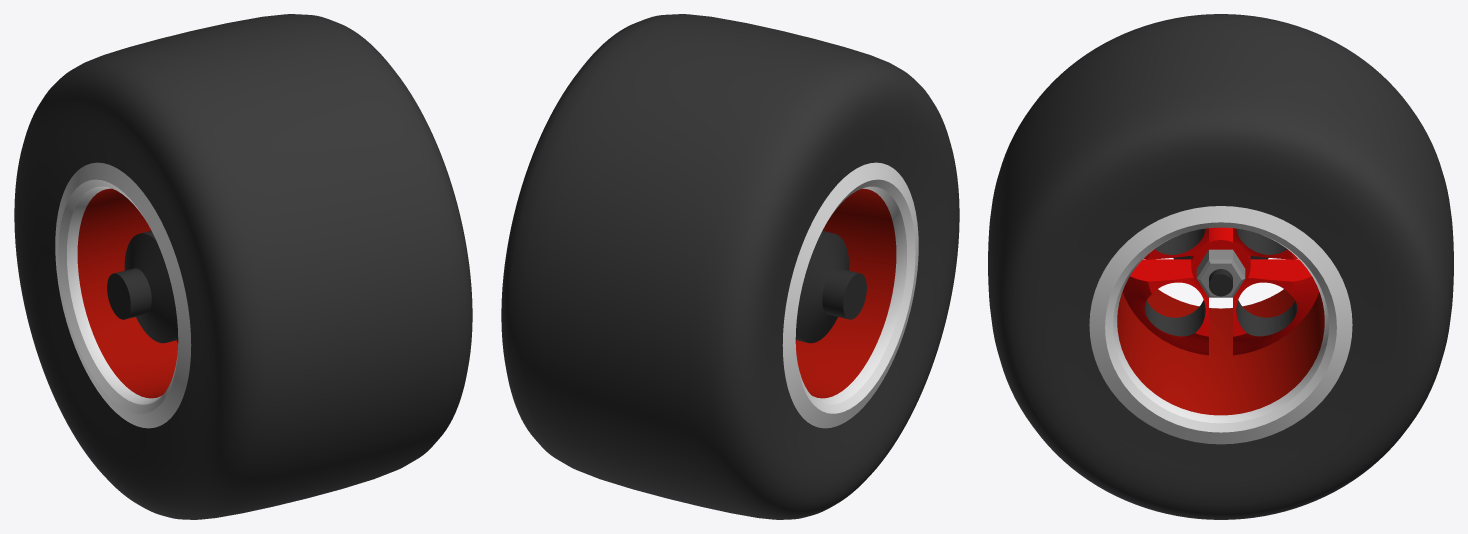
Rendered from misan.fbx.
The picture shows the model from 3 angles, left to right: view 1: azimuth 30°, elevation 25°; view 2: azimuth 150°, elevation 25°; view 3: azimuth 270°, elevation 25°; orthographic projection. The views are drawn at different scales.
Parts seen in each view (by area): view 1: Bolts.1; view 2: Bolts.1; view 3: Bolts.1.
Part boxes in pixels (<box>): Bolts.1: <box>14,14,472,519</box>; Bolts.1: <box>501,14,959,519</box>; Bolts.1: <box>988,14,1453,519</box>.
Size of the model in its own units: 209 by 346 by 346.
